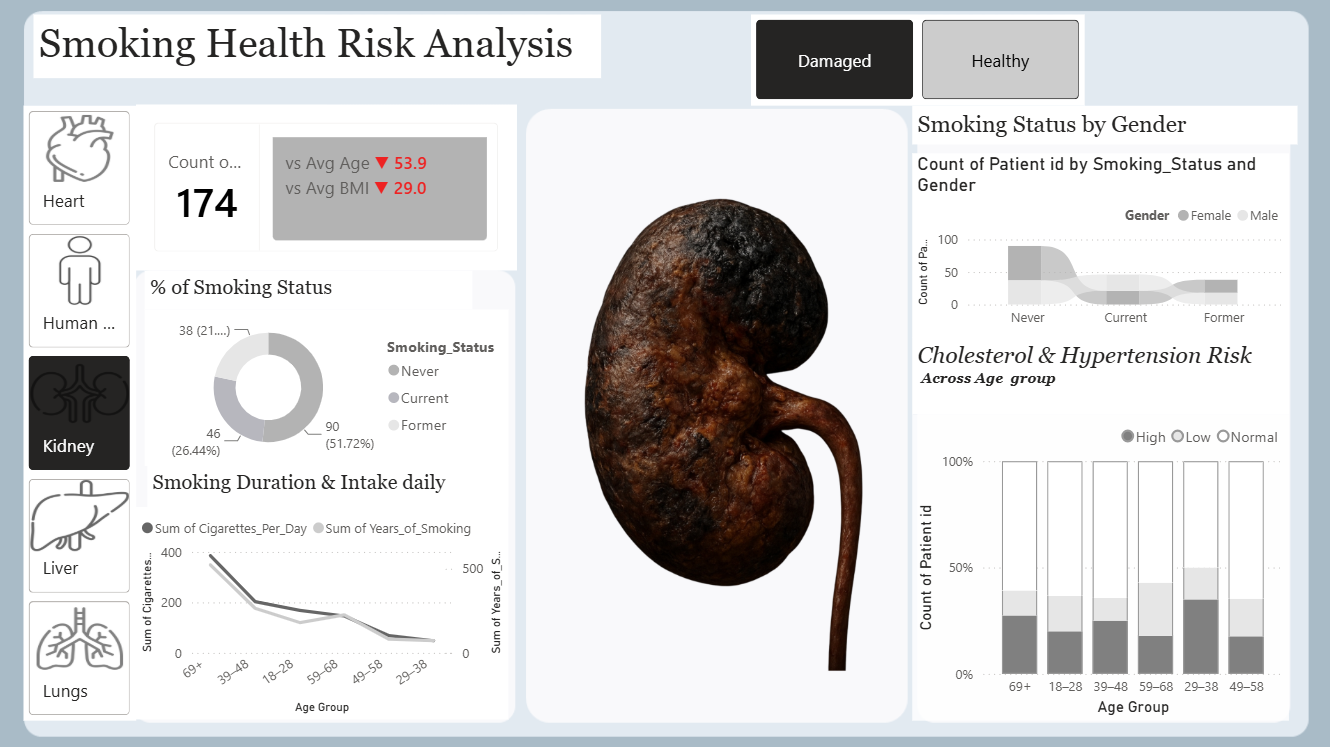

The dashboard page shown, as its layout file describes it:
{"tool":"powerbi","page":{"name":"Page 1","canvas":[1280,720],"ordinal":0},"visuals":[{"type":"textbox","box":[48.8,20.9,527.9,59.3],"z":0},{"type":"ribbonChart","fields":{"Category":["health_dataset.Smoking_Status"],"Y":["CountNonNull(health_dataset.Patient_ID)"],"Series":["health_dataset.Gender"]},"box":[866.3,150,350,170.9],"z":1000},{"type":"donutChart","fields":{"Y":["CountNonNull(health_dataset.Patient_ID)"],"Category":["health_dataset.Smoking_Status"]},"box":[152.3,295.3,338.4,145.3],"z":2000},{"type":"lineChart","fields":{"Y2":["Sum(health_dataset.Years_of_Smoking)"],"Y":["Sum(health_dataset.Cigarettes_Per_Day)"],"Category":["health_dataset.Age Group"]},"box":[144.2,479.1,346.5,197.7],"z":3000},{"type":"textbox","box":[152.5,258.8,305,36.2],"z":4000},{"type":"textbox","box":[866.3,105.8,358.1,36],"z":6000},{"type":"textbox","box":[866.3,320.9,350,72.1],"z":7000},{"type":"hundredPercentStackedColumnChart","fields":{"Category":["health_dataset.Age Group"],"Y":["CountNonNull(health_dataset.Patient_ID)"],"Series":["health_dataset.BP_Risk"]},"box":[866.2,392.5,350,285],"z":8000},{"type":"textbox","box":[154.7,440.7,336,38.4],"z":9000},{"type":"advancedSlicerVisual","fields":{"Values":["Organs.Organ"]},"box":[39.5,105.8,104.7,572.1],"z":10000},{"type":"image","box":[514,101.2,352.3,575.6],"z":11000},{"type":"cardVisual","fields":{"Data":["CountNonNull(health_dataset.Patient_ID)"]},"box":[144.4,104.4,354.4,154.4],"z":12000},{"type":"advancedSlicerVisual","fields":{"Values":["health_dataset.Organ_Condition"]},"box":[716.3,20.9,310.5,84.9],"z":13000}]}

Visuals, with their boxes in screenshot pixels (x1, y1, x2, y2), scaled from the page's 1280x720 canvas onto the 1330x747 screenshot:
textbox: box(51, 22, 599, 83)
ribbonChart - health_dataset.Smoking_Status x CountNonNull(health_dataset.Patient_ID): box(900, 156, 1264, 333)
donutChart - CountNonNull(health_dataset.Patient_ID) x health_dataset.Smoking_Status: box(158, 306, 510, 457)
lineChart - Sum(health_dataset.Years_of_Smoking) x Sum(health_dataset.Cigarettes_Per_Day): box(150, 497, 510, 702)
textbox: box(158, 269, 475, 306)
textbox: box(900, 110, 1272, 147)
textbox: box(900, 333, 1264, 408)
hundredPercentStackedColumnChart - health_dataset.Age Group x CountNonNull(health_dataset.Patient_ID): box(900, 407, 1264, 703)
textbox: box(161, 457, 510, 497)
advancedSlicerVisual - Organs.Organ: box(41, 110, 150, 703)
image: box(534, 105, 900, 702)
cardVisual - CountNonNull(health_dataset.Patient_ID): box(150, 108, 518, 269)
advancedSlicerVisual - health_dataset.Organ_Condition: box(744, 22, 1067, 110)
